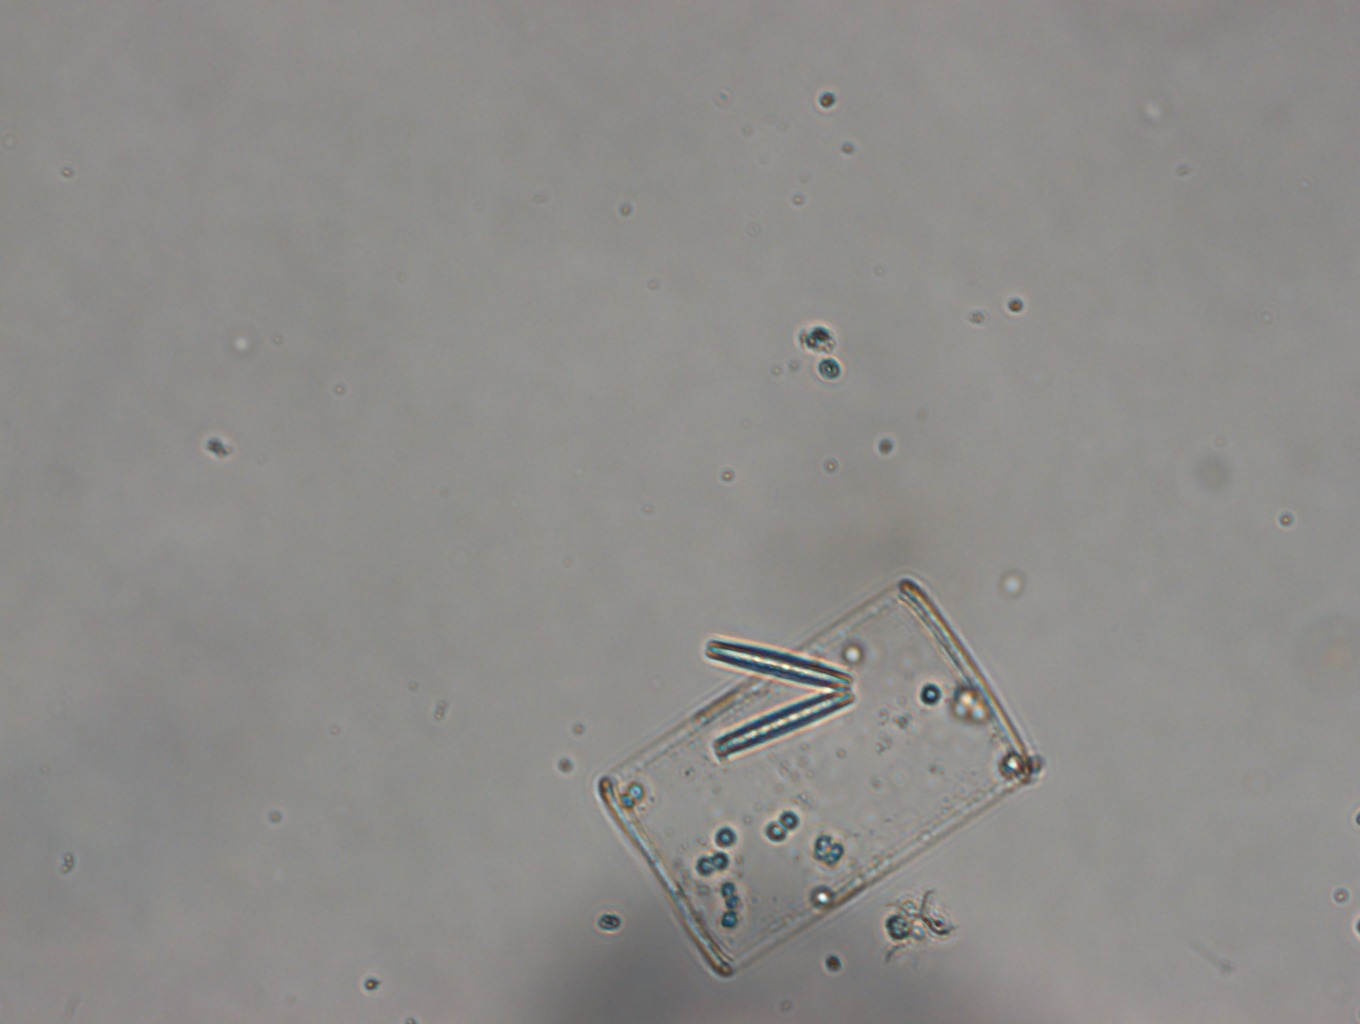guinardia flaccida: (590, 577, 1041, 979)
thalassionema frauenfeldii: (688, 627, 861, 776)
